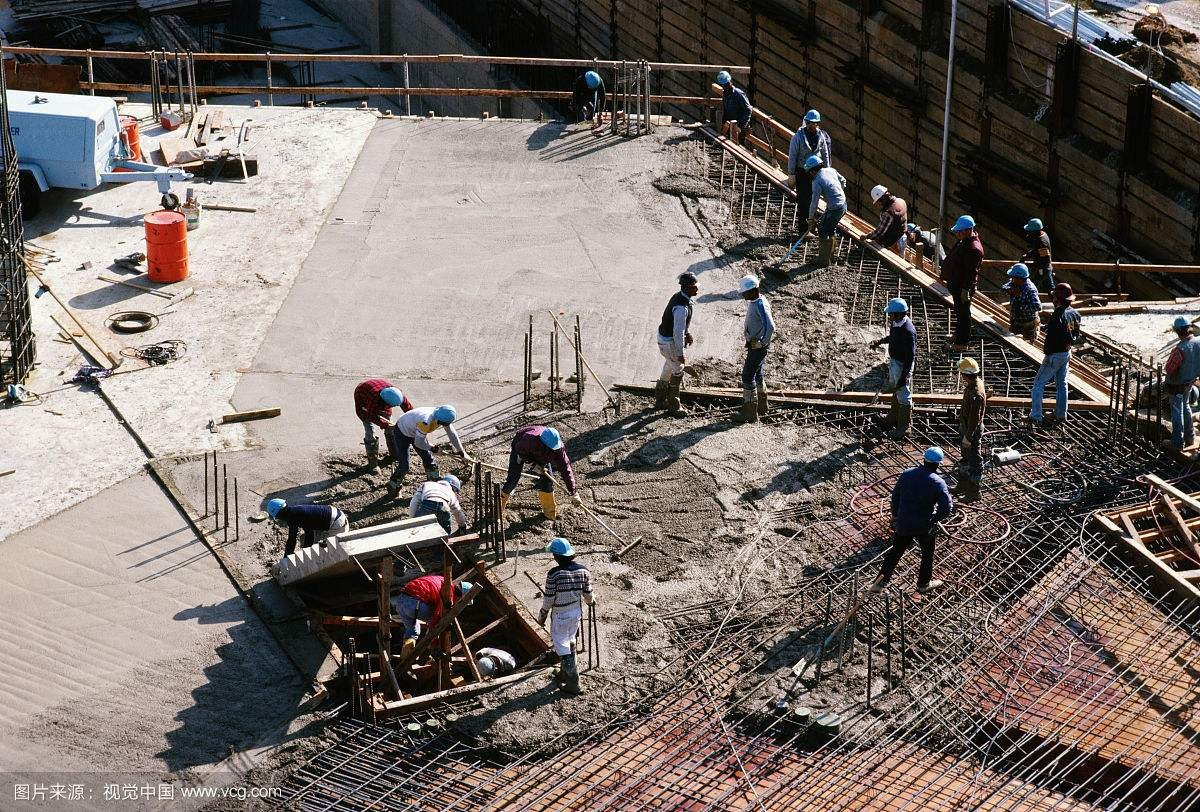blue: (378, 381, 405, 409), (537, 425, 563, 454), (549, 534, 574, 564), (449, 575, 475, 603), (1169, 311, 1193, 341), (265, 494, 288, 524), (954, 212, 977, 241), (1006, 259, 1030, 286), (884, 295, 908, 321), (434, 401, 457, 428), (920, 444, 943, 470), (580, 66, 602, 92), (804, 152, 825, 176), (441, 473, 463, 495), (802, 108, 822, 132), (1024, 215, 1043, 238), (715, 68, 734, 89)
none: (676, 269, 700, 298)
red: (1051, 281, 1075, 308)
white: (735, 273, 762, 301), (868, 182, 891, 206)
yellow: (957, 352, 979, 383)
